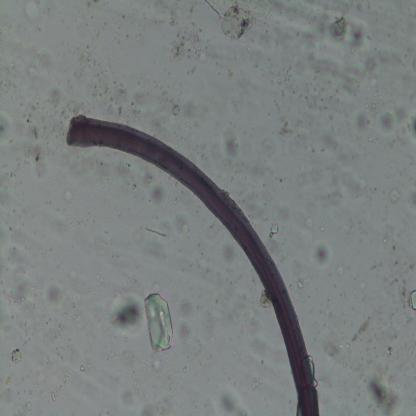Background material: (204, 0, 275, 42), (142, 290, 174, 352), (109, 290, 147, 337), (169, 19, 206, 66), (332, 16, 370, 56), (366, 376, 398, 416), (139, 171, 167, 205), (213, 390, 249, 416), (219, 123, 242, 160), (379, 103, 406, 134), (27, 50, 54, 79), (141, 395, 176, 416), (8, 244, 29, 278), (178, 297, 194, 341), (310, 241, 333, 268), (352, 316, 370, 342), (8, 282, 30, 303), (43, 282, 63, 304), (304, 21, 326, 41), (24, 0, 41, 25), (79, 50, 97, 72), (256, 287, 272, 309), (144, 224, 168, 238), (367, 92, 383, 113), (112, 83, 128, 103), (221, 244, 237, 264), (405, 110, 416, 139), (340, 76, 360, 90), (278, 120, 294, 137), (47, 88, 62, 106), (398, 286, 410, 308), (266, 223, 281, 240), (0, 115, 10, 139), (19, 146, 32, 164), (10, 347, 23, 365), (104, 346, 119, 361), (149, 356, 166, 369), (53, 320, 65, 338), (388, 50, 403, 64), (32, 125, 41, 148), (363, 56, 376, 71), (324, 341, 336, 356), (294, 276, 306, 290), (0, 78, 15, 89), (390, 189, 402, 202), (60, 106, 72, 119), (384, 138, 398, 149), (358, 178, 368, 193), (4, 373, 15, 386), (63, 188, 73, 202), (409, 189, 416, 207), (410, 290, 416, 311), (250, 380, 260, 392), (132, 376, 142, 388), (172, 195, 182, 207), (226, 68, 236, 79), (294, 117, 303, 129), (406, 345, 415, 357), (283, 69, 291, 82), (270, 76, 283, 84), (357, 281, 367, 291), (370, 75, 378, 87), (357, 1, 365, 13), (33, 151, 41, 163), (70, 107, 80, 116), (172, 104, 180, 115), (153, 18, 165, 25), (132, 110, 140, 120), (313, 70, 320, 81), (103, 83, 110, 94), (368, 134, 376, 143), (25, 401, 32, 411), (117, 105, 123, 116), (387, 345, 393, 356), (330, 142, 338, 150), (390, 278, 398, 286), (304, 276, 312, 284), (192, 118, 199, 127), (171, 16, 177, 26), (9, 62, 16, 70), (383, 234, 389, 243), (51, 392, 57, 401), (94, 272, 100, 281), (310, 144, 315, 154), (371, 263, 378, 270), (319, 148, 327, 154), (391, 238, 395, 250), (191, 66, 197, 74), (34, 26, 42, 32), (126, 162, 132, 170), (339, 332, 344, 341), (246, 45, 252, 52), (80, 364, 86, 371), (344, 342, 351, 348), (10, 172, 17, 178), (321, 105, 328, 111), (30, 105, 38, 110), (76, 220, 81, 228), (132, 183, 138, 189), (338, 344, 344, 350), (398, 170, 404, 176), (27, 113, 34, 118), (71, 302, 76, 309), (46, 357, 51, 364), (233, 347, 237, 355), (94, 82, 98, 90), (190, 4, 193, 14), (253, 62, 258, 68), (152, 82, 157, 88), (320, 226, 326, 231), (329, 125, 334, 131), (320, 95, 324, 102), (274, 100, 278, 107), (395, 333, 399, 340), (86, 1, 90, 8), (394, 260, 399, 265), (26, 118, 31, 123), (295, 31, 300, 36), (329, 115, 334, 120), (298, 164, 302, 170), (312, 86, 316, 92), (282, 88, 285, 96), (367, 119, 371, 125), (408, 265, 414, 269), (411, 362, 415, 368), (290, 283, 293, 290), (335, 88, 339, 93), (291, 90, 296, 94), (266, 56, 270, 61), (99, 57, 103, 62), (327, 193, 331, 198), (338, 262, 342, 267), (90, 15, 94, 20), (29, 389, 32, 395), (92, 0, 98, 3), (304, 96, 308, 100), (342, 362, 346, 366), (125, 34, 129, 38), (130, 102, 134, 106), (109, 98, 113, 102), (118, 37, 120, 45), (321, 86, 324, 91), (266, 28, 269, 33), (329, 95, 332, 99), (276, 40, 278, 46), (358, 392, 361, 396), (382, 190, 385, 194), (122, 14, 125, 18), (386, 364, 388, 370), (187, 71, 190, 75), (86, 45, 89, 49), (103, 22, 106, 26), (352, 154, 354, 159), (374, 188, 377, 191), (121, 47, 124, 50), (100, 93, 102, 97), (280, 179, 282, 183), (268, 24, 270, 27), (340, 293, 342, 296)
Microfibre: (67, 114, 320, 416)
